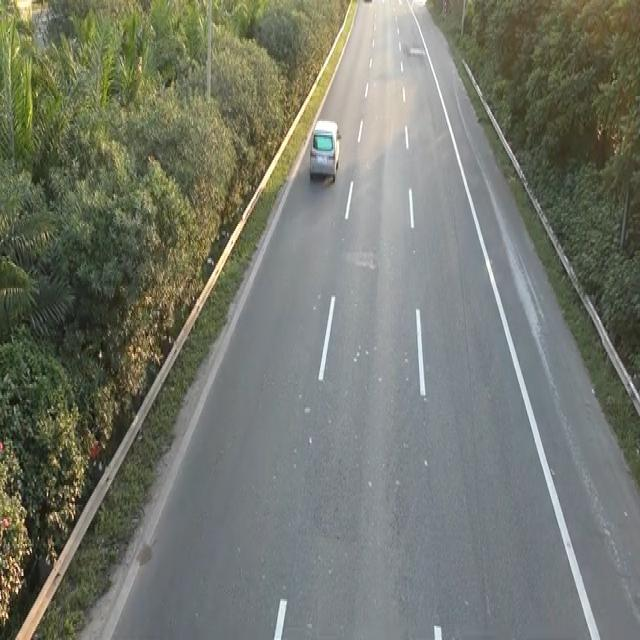lorry: (307, 115, 342, 185)
